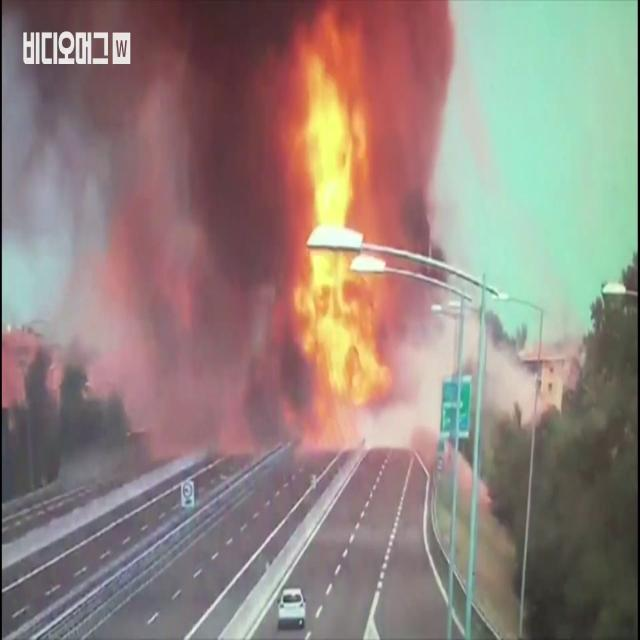explosion: (156, 47, 446, 492)
